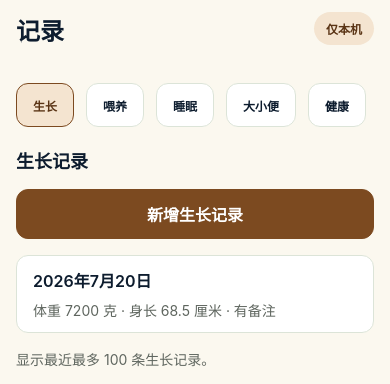
Test: rejected missing-record reload transition suppresses its fallback list
Click the button with aria-label "生长记录，".
click(92, 281)  # box [16, 255, 374, 333]
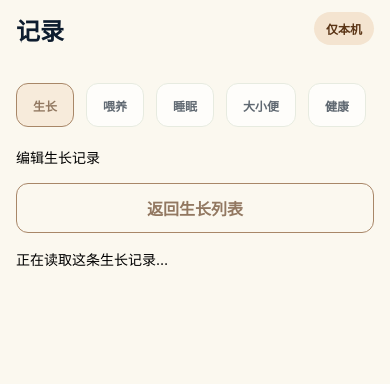
Result: the heading "编辑生长记录" is shown at [16, 149, 100, 166]
